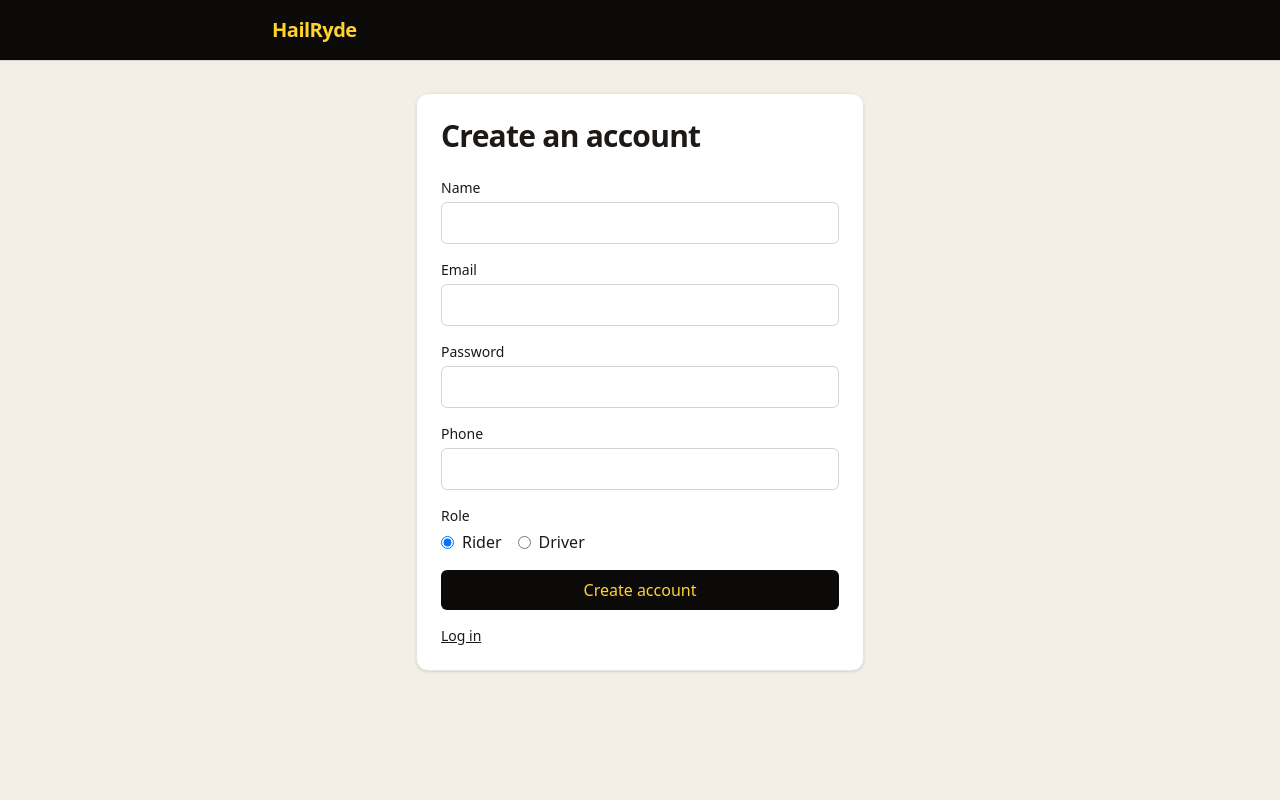
Test: sends a driver to the driver desk after register
Type "Bilal Ahmed" into the field labelled "Name" at (640, 223), box [441,202,839,244]
Type "bilal@example.com" into the field labelled "Email" at (640, 305), box [441,284,839,326]
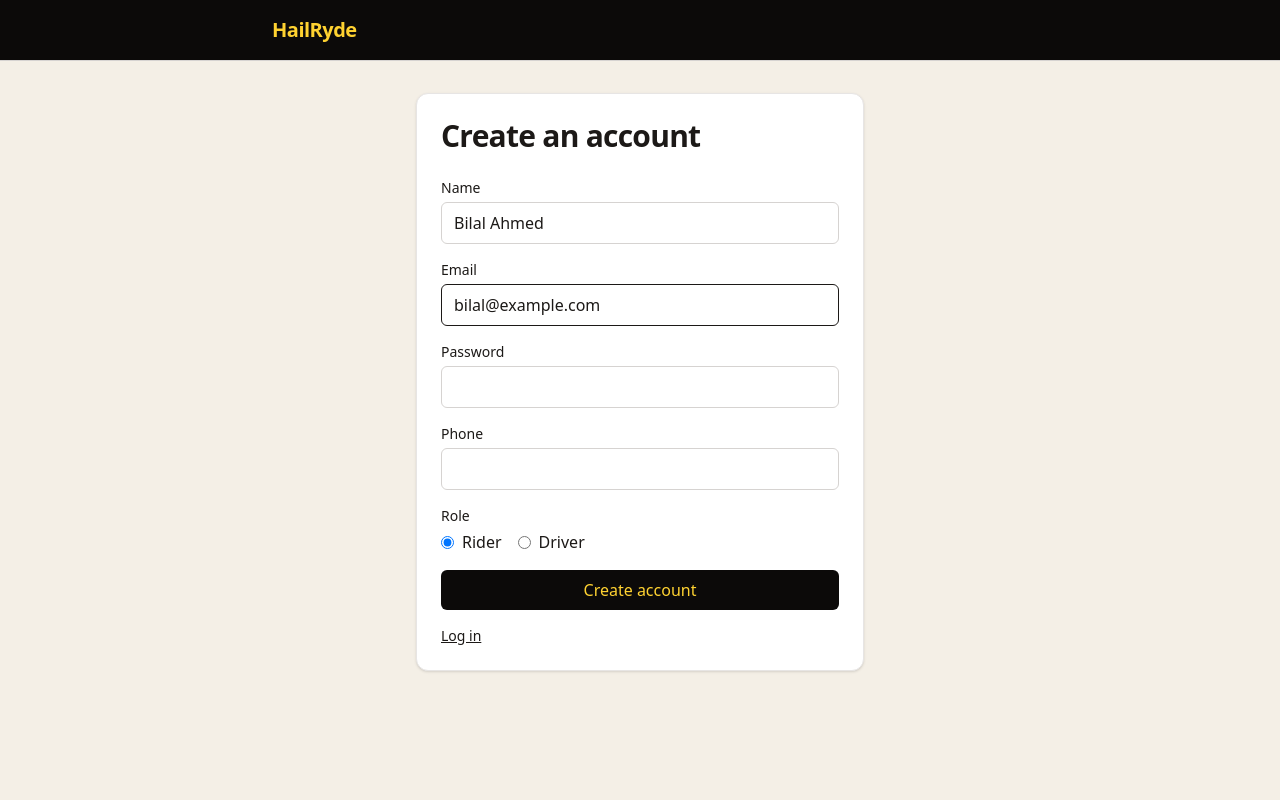
Type "password" into the password field labelled "Password" at (640, 387), box [441,366,839,408]
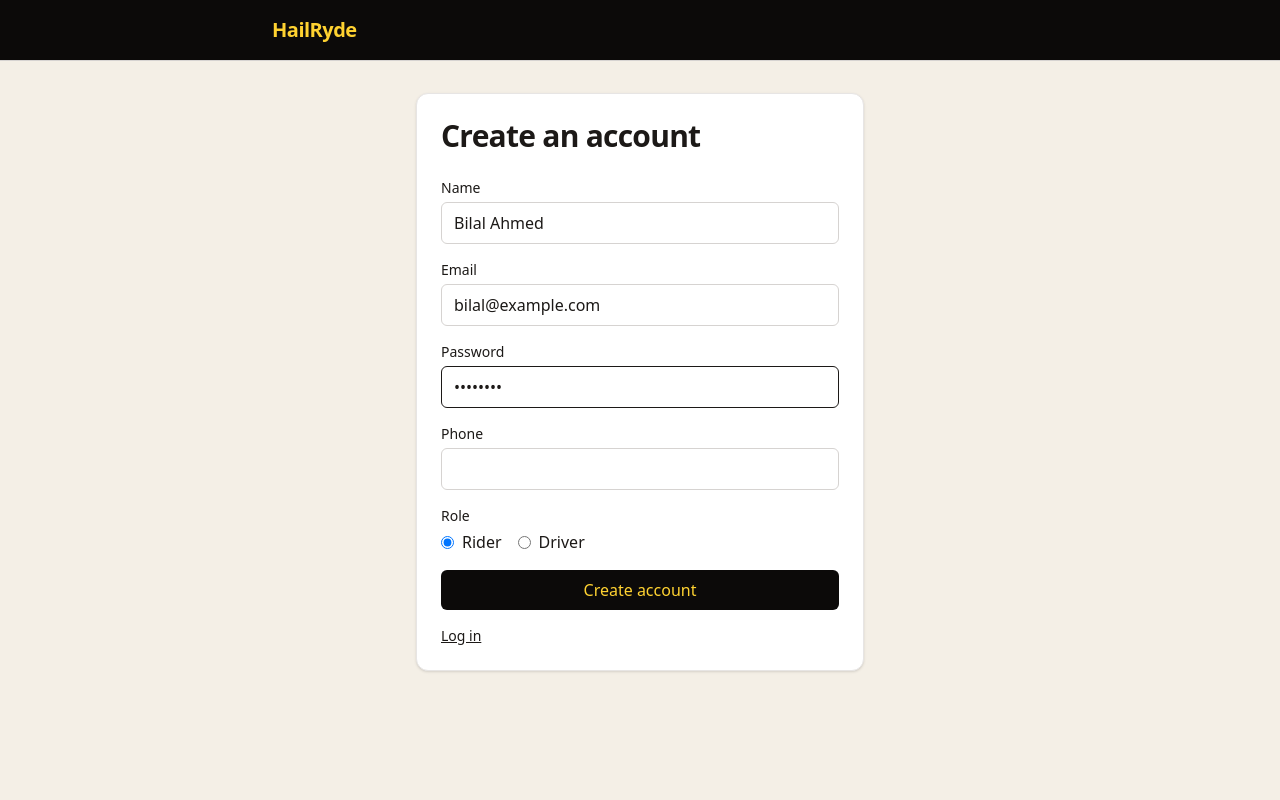
Type "03000000002" into the field labelled "Phone" at (640, 469), box [441,448,839,490]
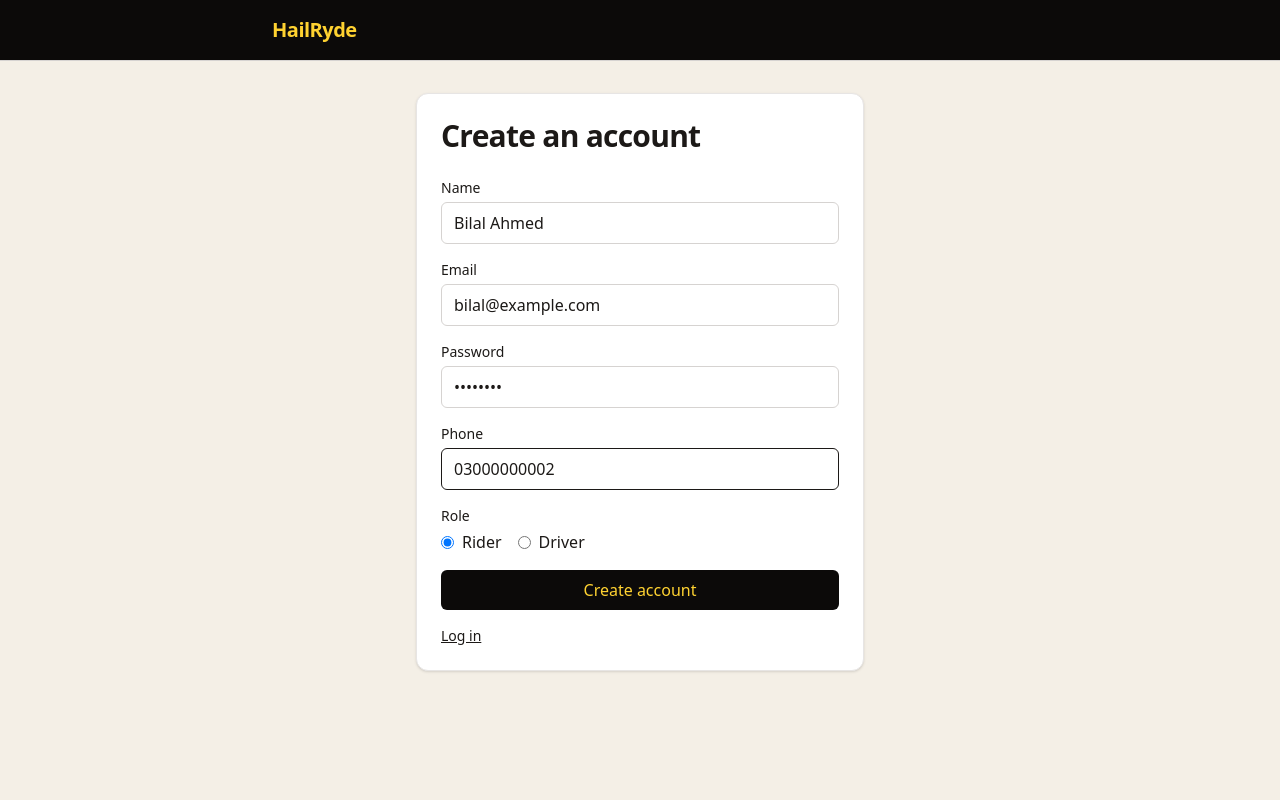
Click the radio button labelled "Driver" at (524, 542), box [518,536,531,548]
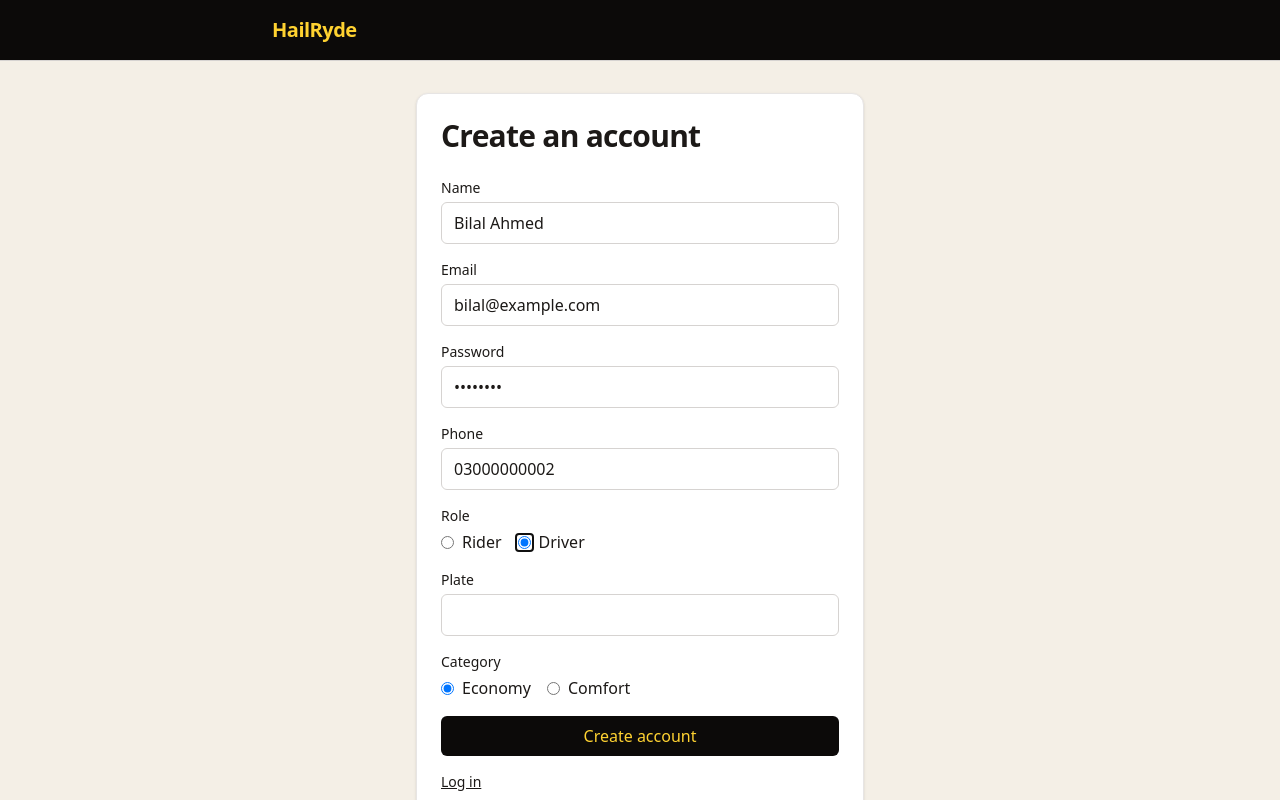
Type "LEA-1001" into the field labelled "Plate" at (640, 615), box [441,594,839,636]
Click the radio button labelled "Economy" at (448, 688), box [441,682,454,694]
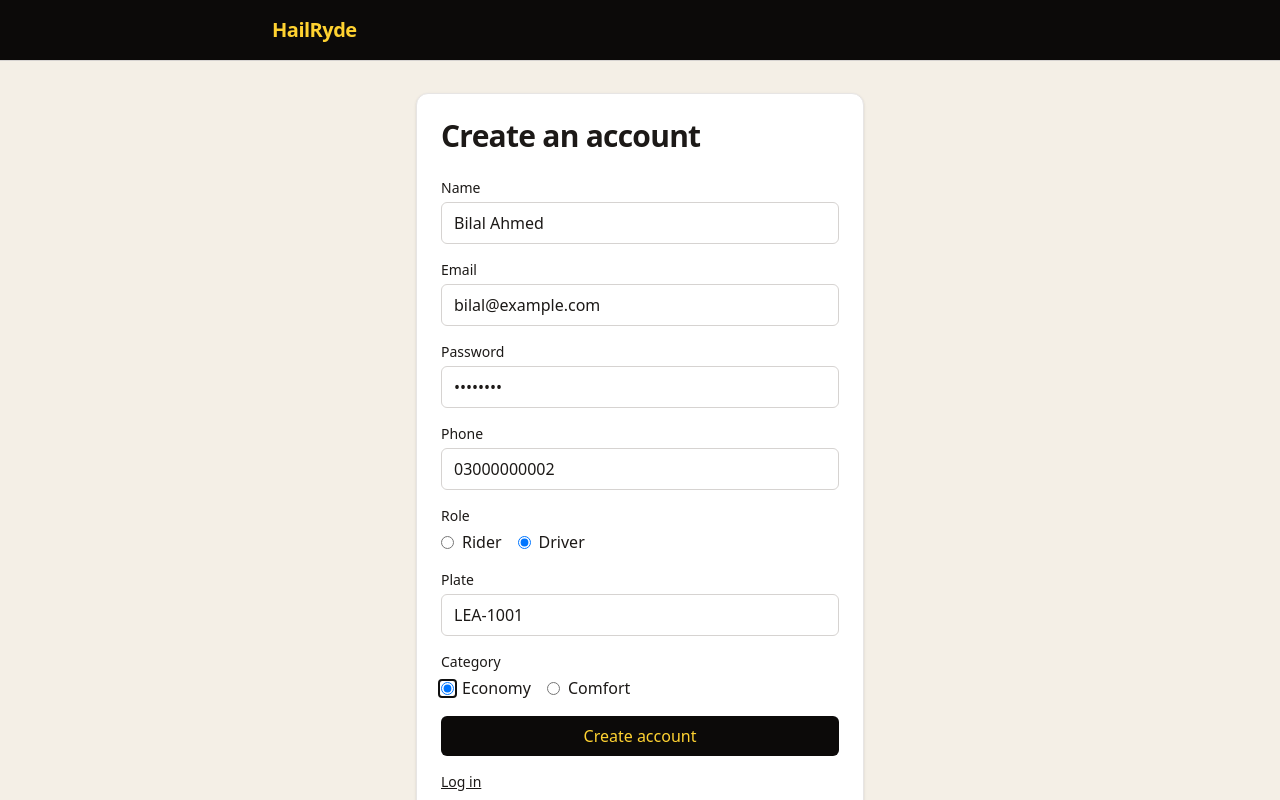
Click the button "Create account" at (640, 736), box [441,716,839,756]
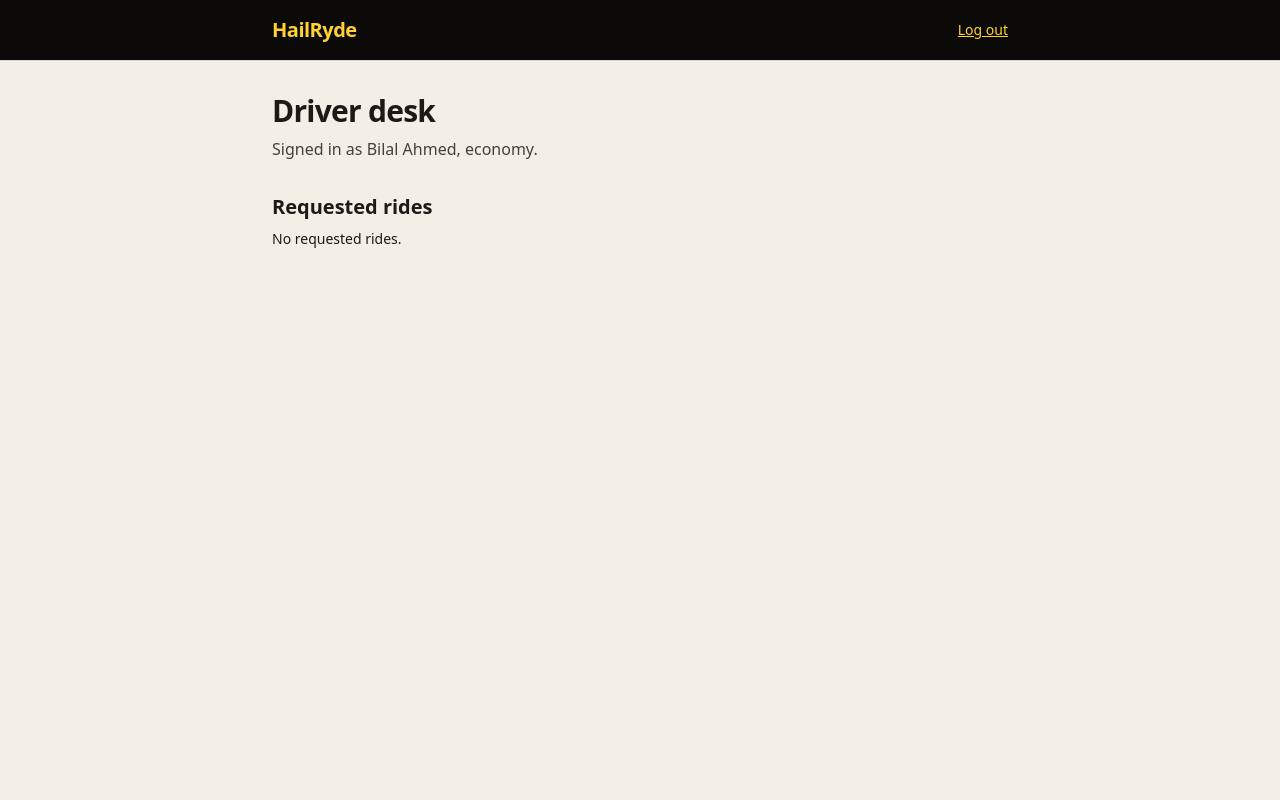
Expected: the heading "Driver desk" is shown, [272,90,435,131]
